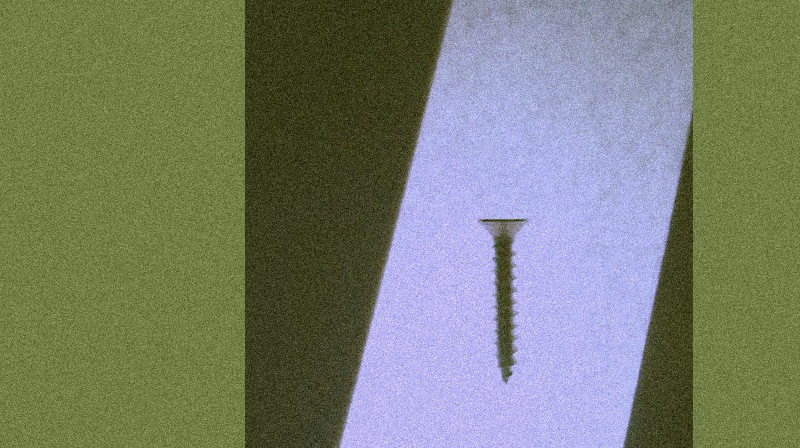S001: (474, 210, 531, 384)
